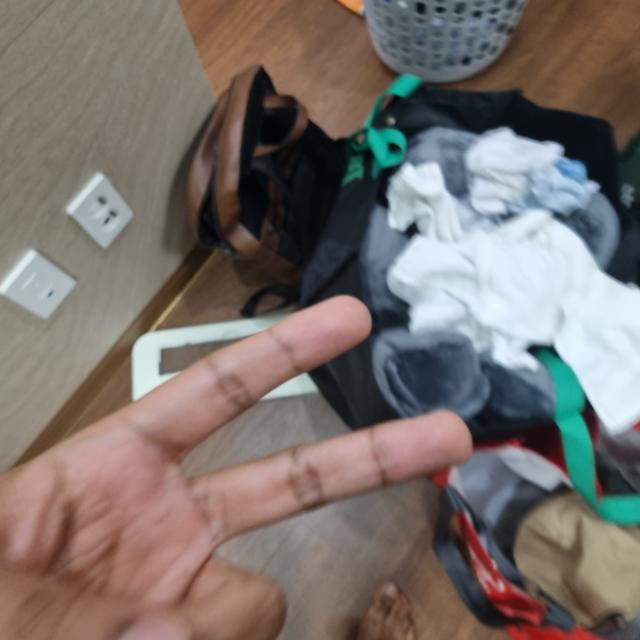Scissors: (0, 0, 639, 638)
